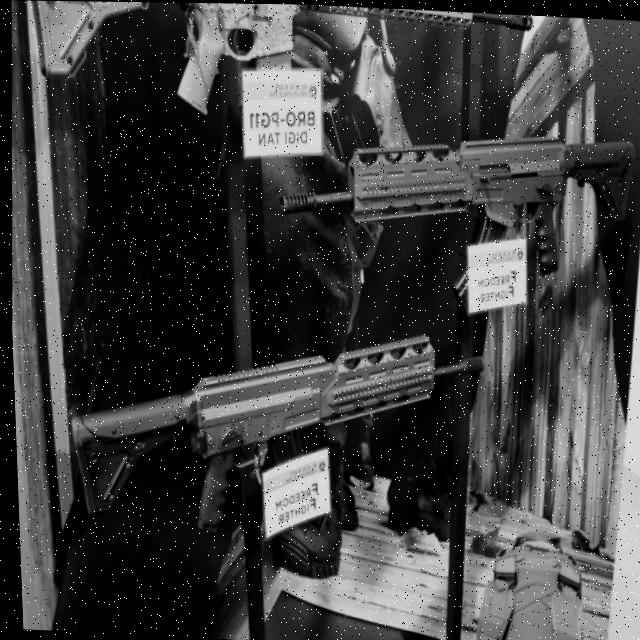firearm: (59, 310, 489, 539), (30, 0, 536, 128), (272, 117, 638, 273)
